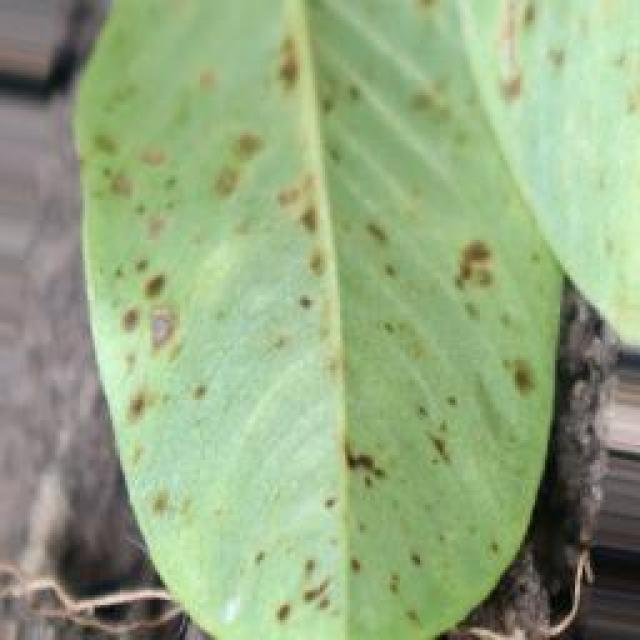Whitefly: (19, 0, 597, 629)
